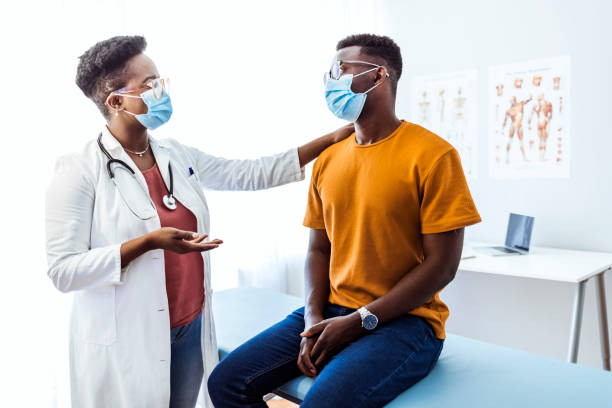with mask: (77, 35, 175, 134), (321, 30, 402, 123)
